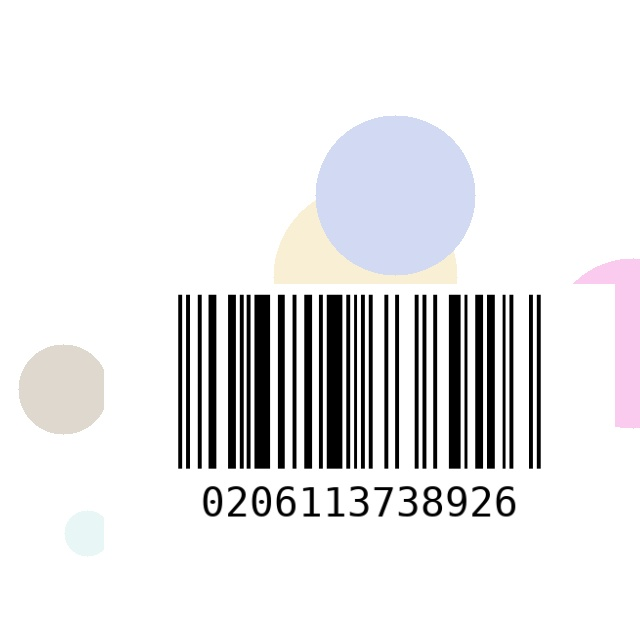barcode: (104, 284, 615, 558)
